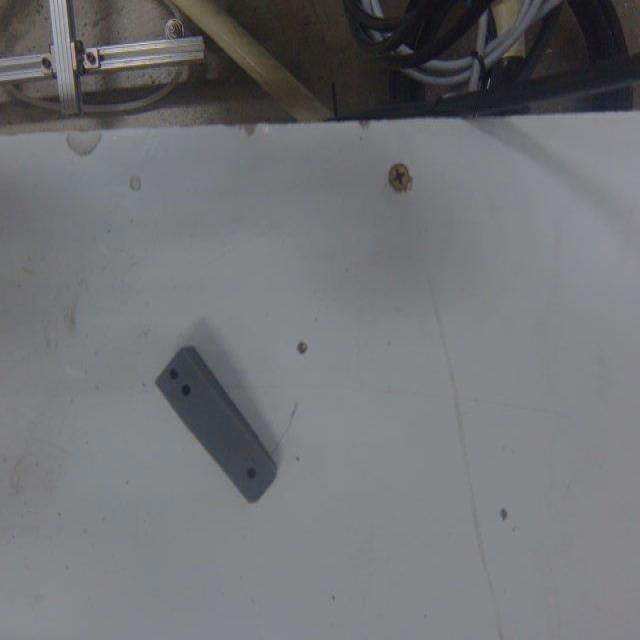grey: (151, 346, 280, 504)
head: (246, 465, 257, 482)
